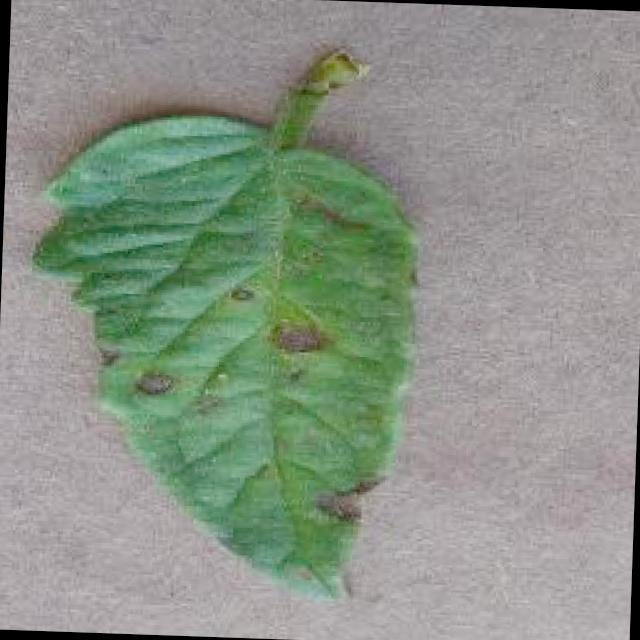Tomato Early blight leaf: (18, 101, 424, 604)
